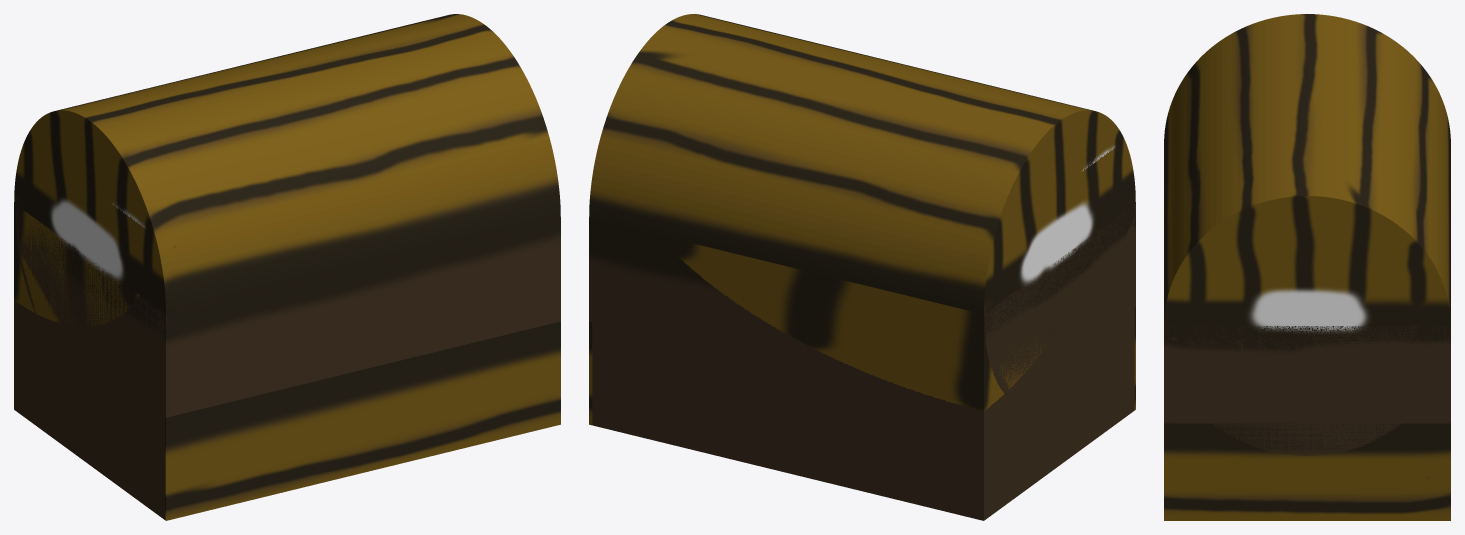
Rendered from chest_1.gltf.
3 views of the same model, side by side, from view 1: azimuth 30°, elevation 25°; view 2: azimuth 150°, elevation 25°; view 3: azimuth 270°, elevation 25° (orthographic). The views are drawn at different scales.
Parts seen in each view (by area): view 1: Cube; view 2: Cube; view 3: Cube.
Boxes of the visible parts, x1,y1,x2,y2 form: Cube: [14, 14, 560, 520]; Cube: [589, 14, 1135, 520]; Cube: [1164, 14, 1450, 520].
Size of the model in its own units: 3 by 2.5 by 2.
1 material, 1 textured.
